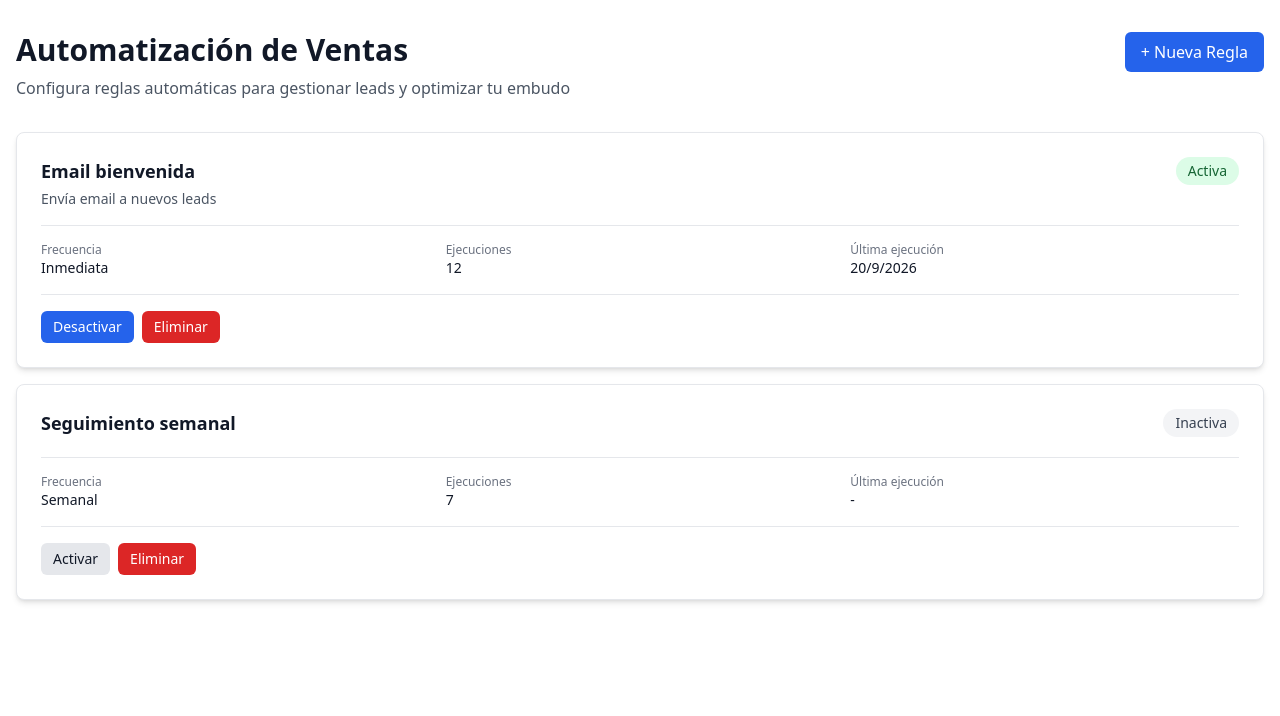
Test: AutomationPage › shows the API error when creation fails and keeps the form
Expected: the heading "Email bienvenida" is shown, [41,159,195,183]
Click the button "+ Nueva Regla": (1194, 52) [1125,32,1264,72]
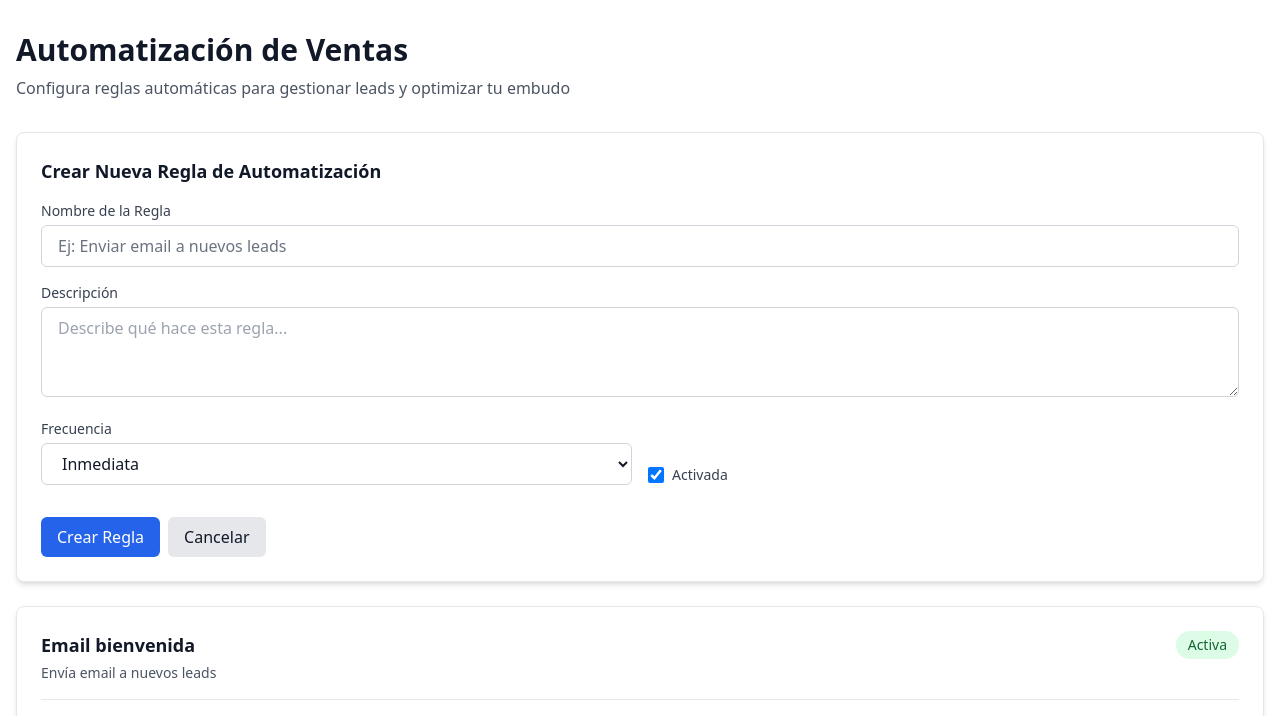
In the field with placeholder "Ej: Enviar email a nuevos leads": (640, 246) [41,225,1239,267], type "Email bienvenida"
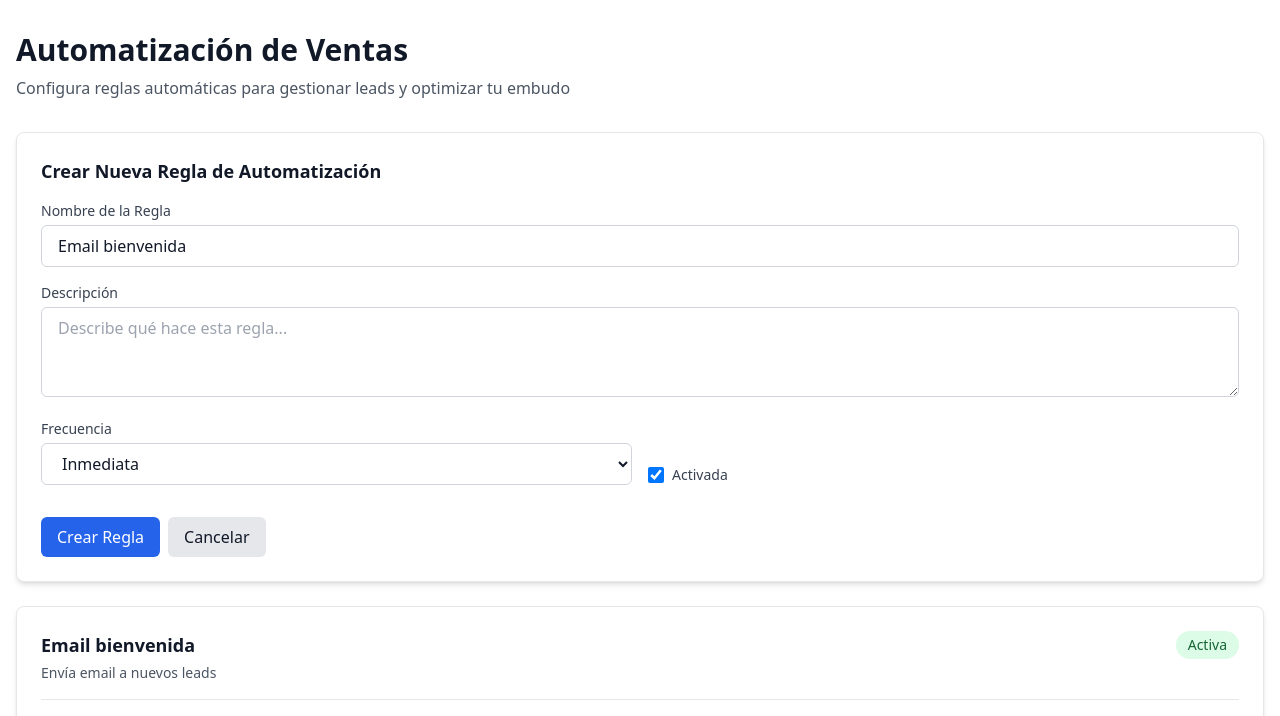
Click the button "Crear Regla": (101, 537) [41,517,160,557]
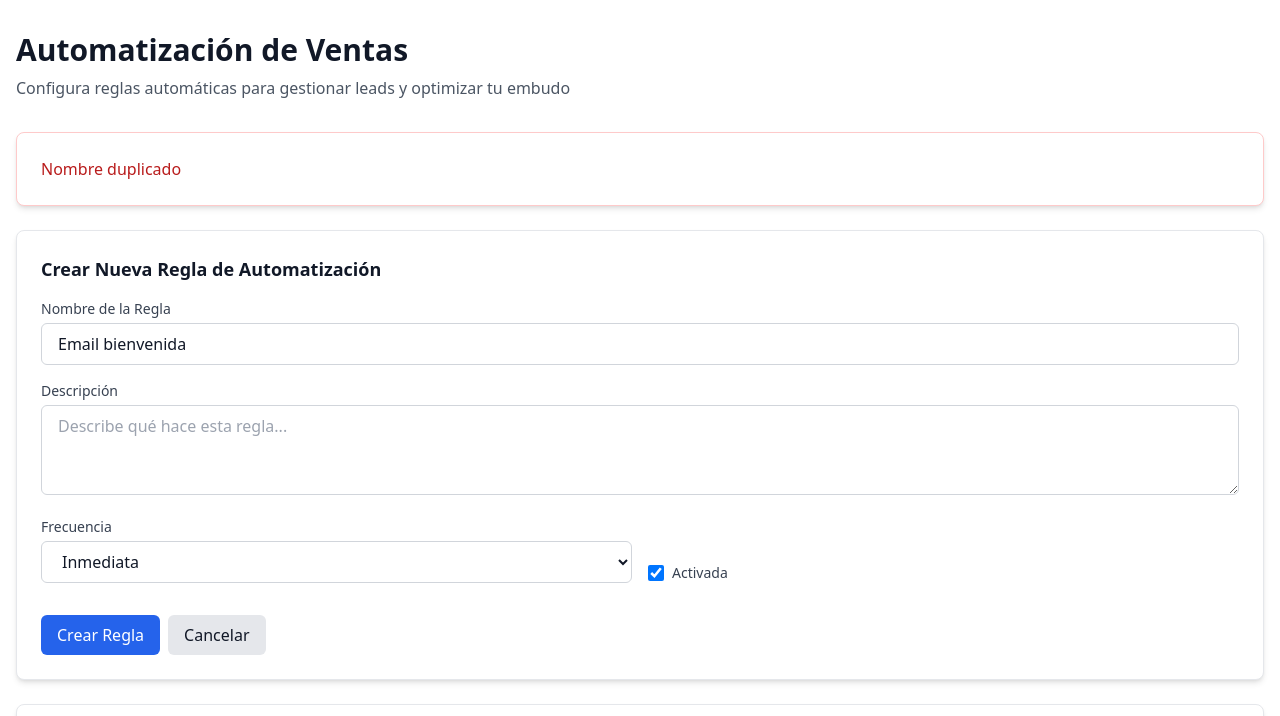
Expected: the heading "Crear Nueva Regla de Automatización" is shown, [41,257,381,281]
Expected: the text "Nombre duplicado" is shown, [41,158,181,180]
